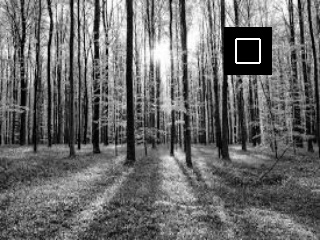square: (224, 27, 272, 75)
